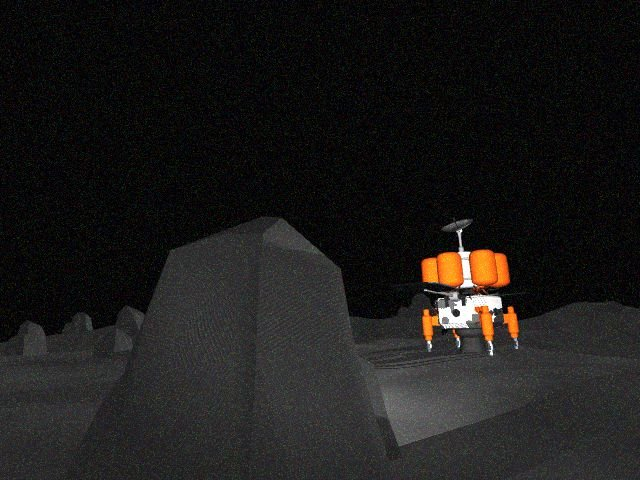homebase: (408, 210, 525, 366)
